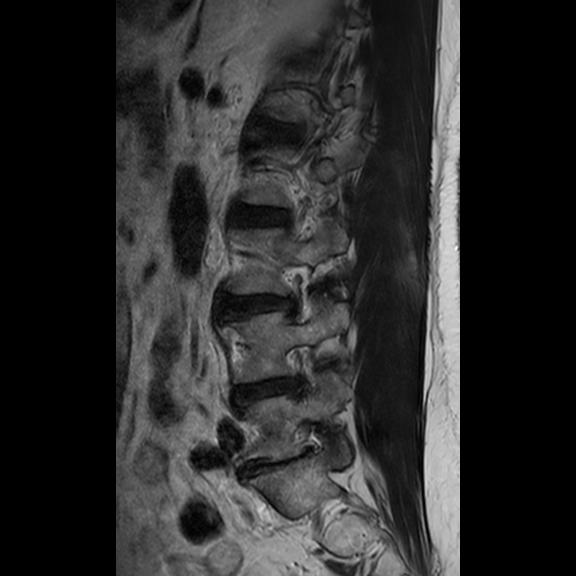LFS0: (271, 259, 321, 330)
